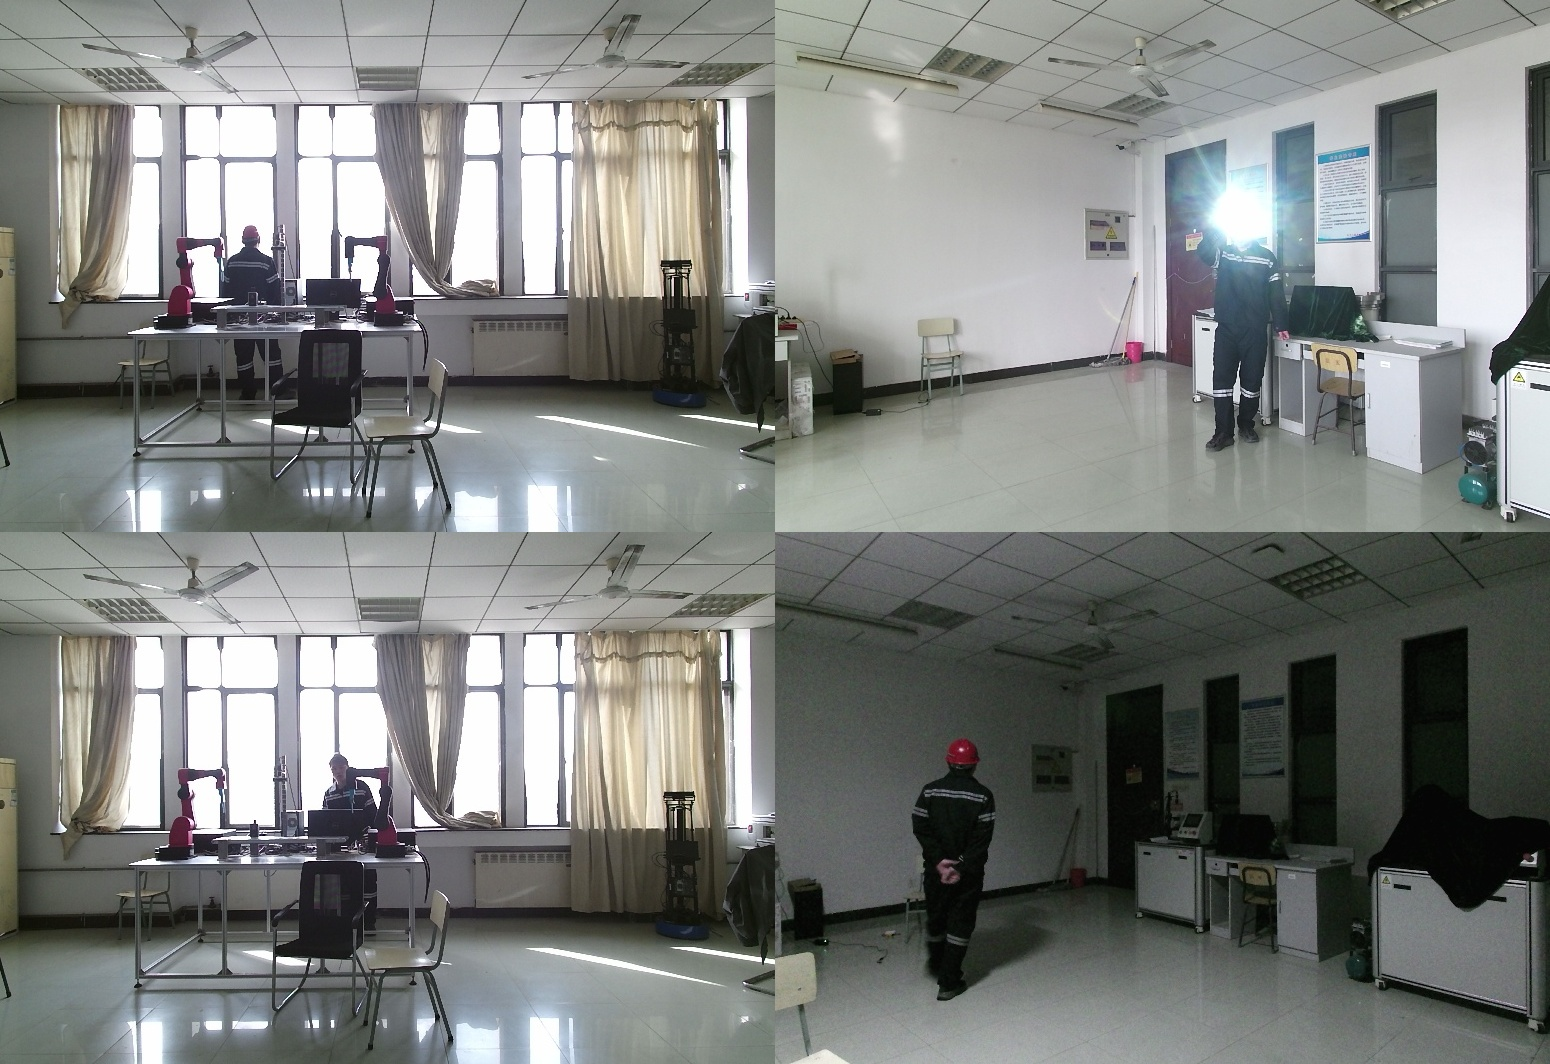person: (860, 740, 1049, 1000), (1199, 209, 1291, 447), (219, 226, 293, 409), (315, 755, 381, 935)
